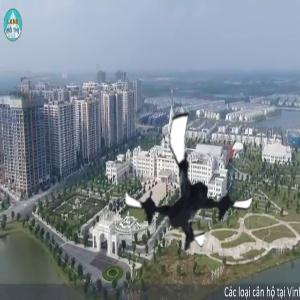drone: (120, 113, 263, 256)
